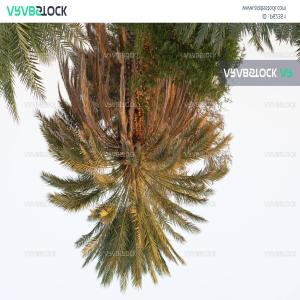palm tree: (1, 22, 90, 126)
